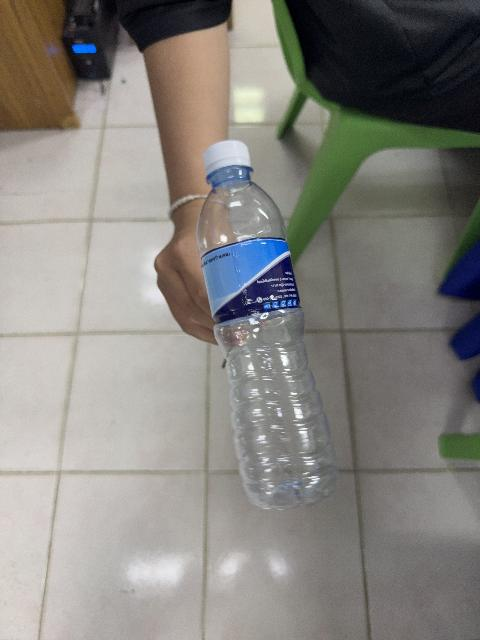bottle: (198, 141, 337, 509)
